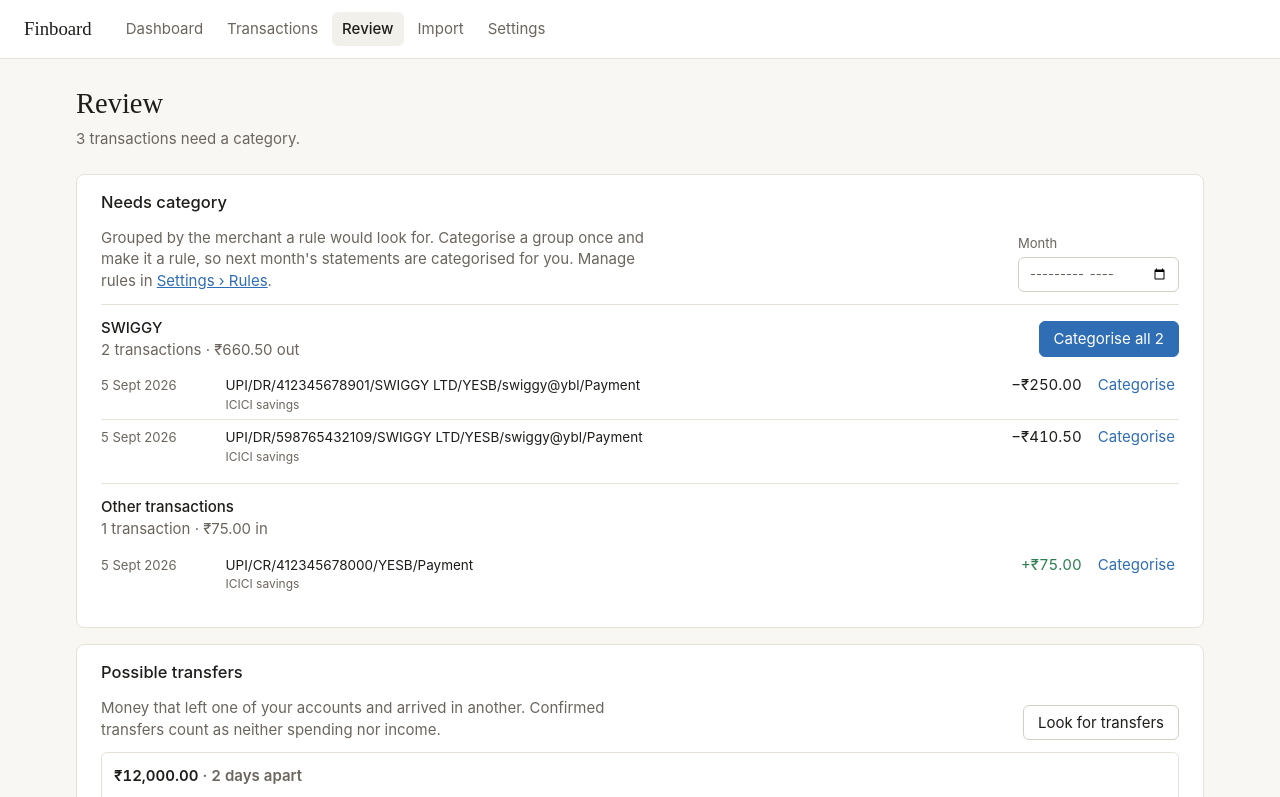
Test: Review page › categorises one transaction without a rule
Click the button with aria-label "Categorise UPI/CR". click: (1136, 565)
box: [1094,554,1179,576]
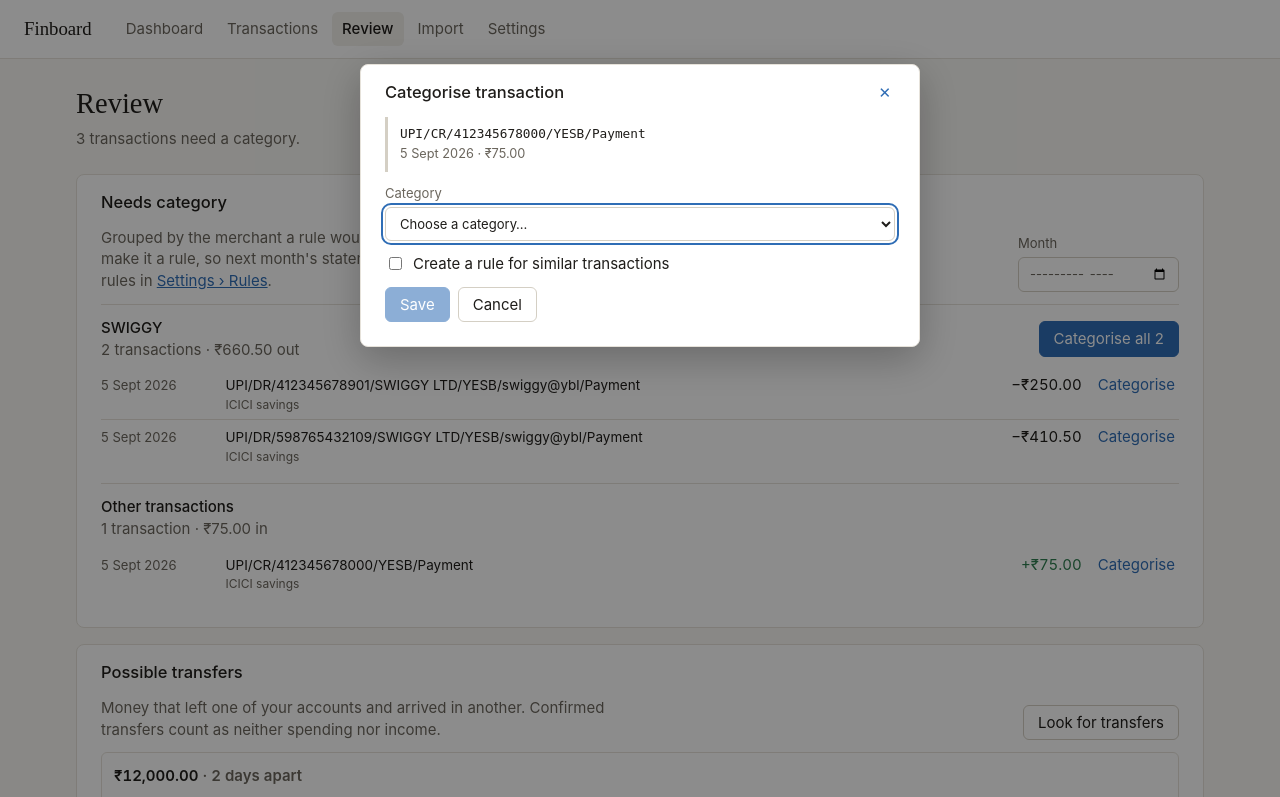
Now the checkbox labelled "Create a rule for similar transactions" is not checked, box [389,257,402,270]
Select "Salary" in the dropdown labelled "Category". click: (640, 224)
box: [385,207,895,241]
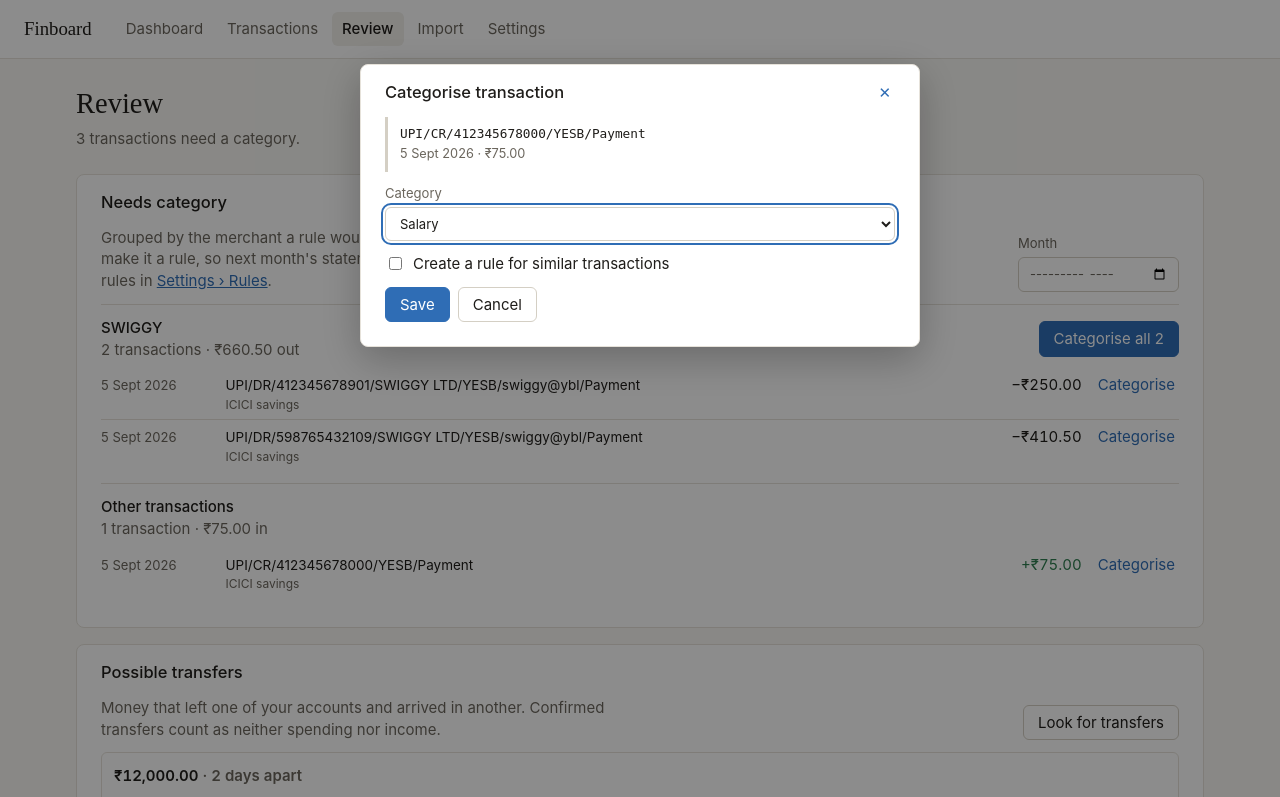
Click the button "Save". click: (417, 304)
box: [385,286,450,322]
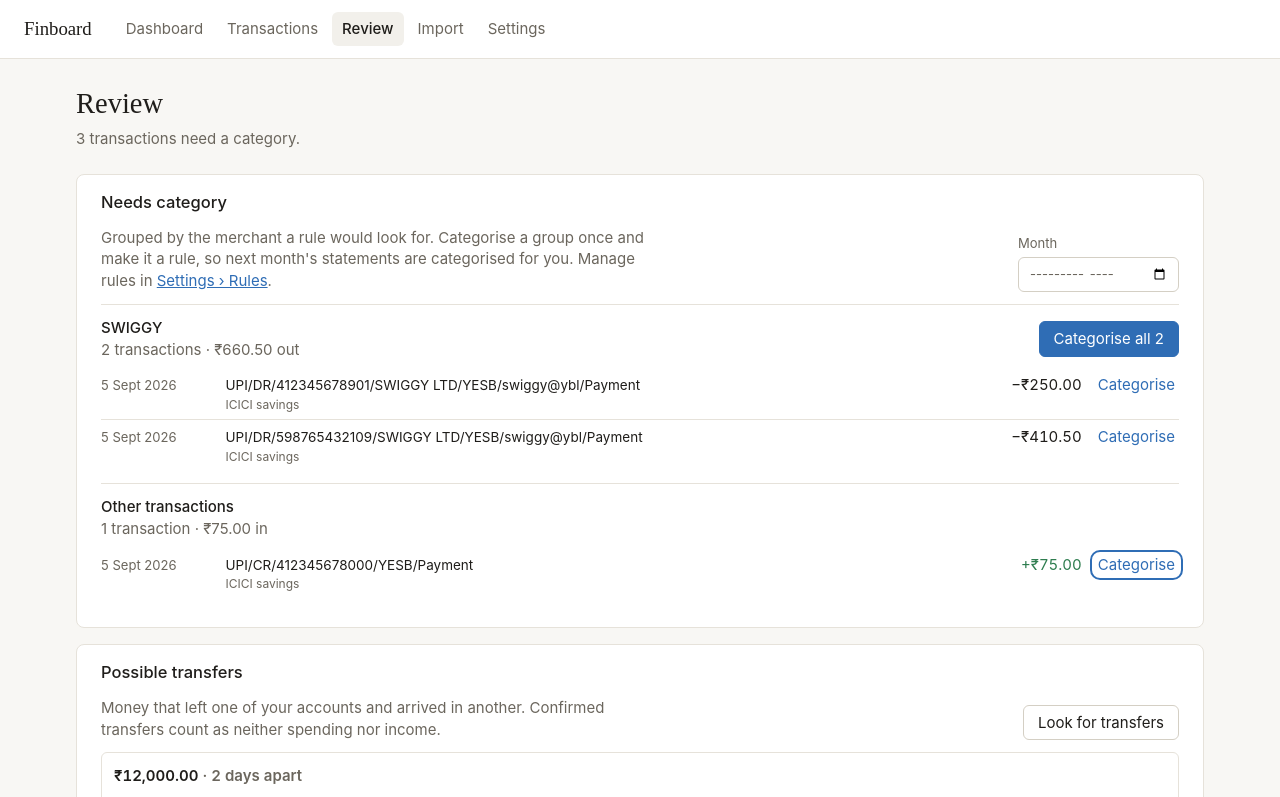
Now the dialog is gone
